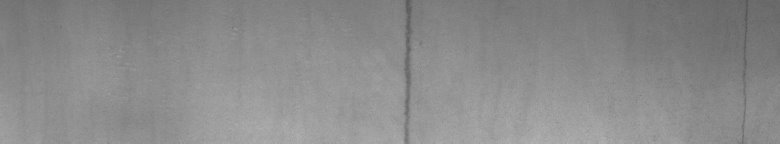hd: (400, 4, 416, 136)
